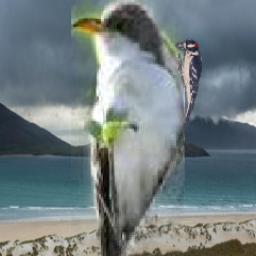Cuckoo: (72, 0, 186, 256)
Woodpecker: (176, 37, 203, 126)
